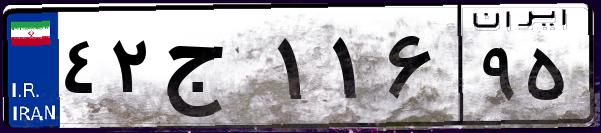1: (270, 28, 330, 110), (330, 28, 385, 110)
2: (110, 28, 158, 98)
4: (57, 26, 110, 100)
5: (525, 38, 570, 115)
6: (385, 28, 445, 110)
9: (475, 38, 525, 113)
ج: (158, 20, 270, 120)
